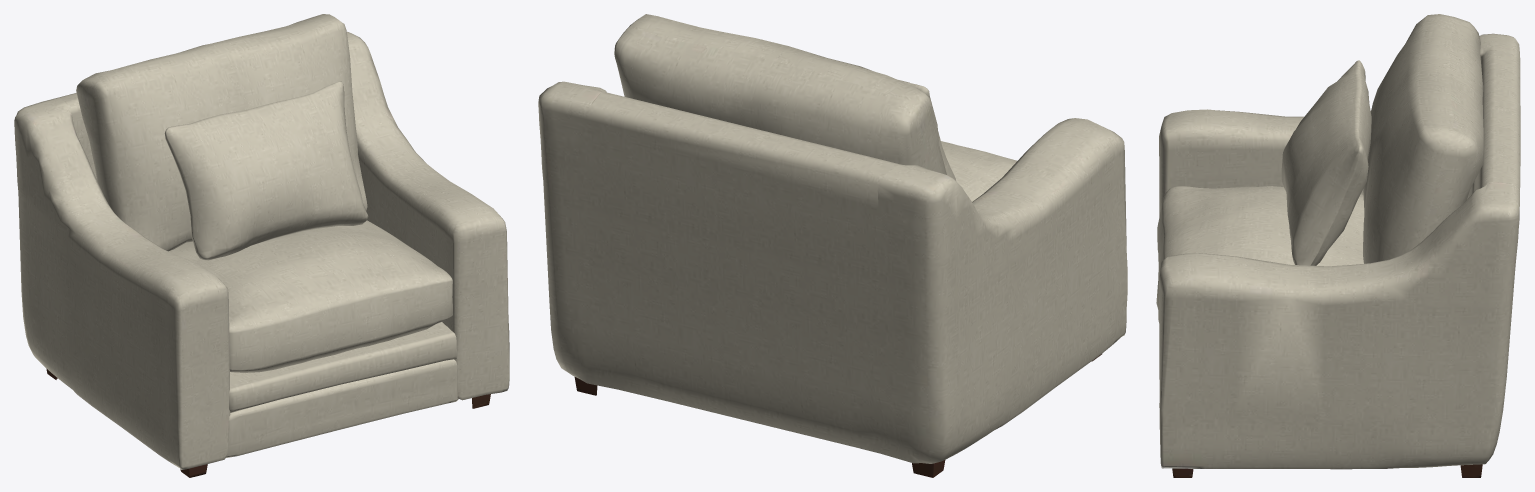
The model's file is armchair_abo_B07HZ9K9PG.glb.
The picture shows the model from 3 angles, left to right: view 1: azimuth 30°, elevation 25°; view 2: azimuth 150°, elevation 25°; view 3: azimuth 270°, elevation 25°; orthographic projection. The views are drawn at different scales.
Visible parts, largest first — view 1: RootNode; view 2: RootNode; view 3: RootNode.
Part boxes in pixels (x1,y1,x2,y2): RootNode: [14, 14, 509, 477]; RootNode: [538, 14, 1127, 477]; RootNode: [1156, 14, 1520, 477].
Bounding box in the file's own units: 1.18 × 1.02 × 1.01.
1 material, 1 textured.
